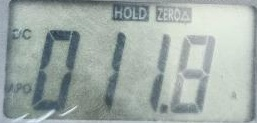ClampMeter_Display: (0, 0, 257, 123)
